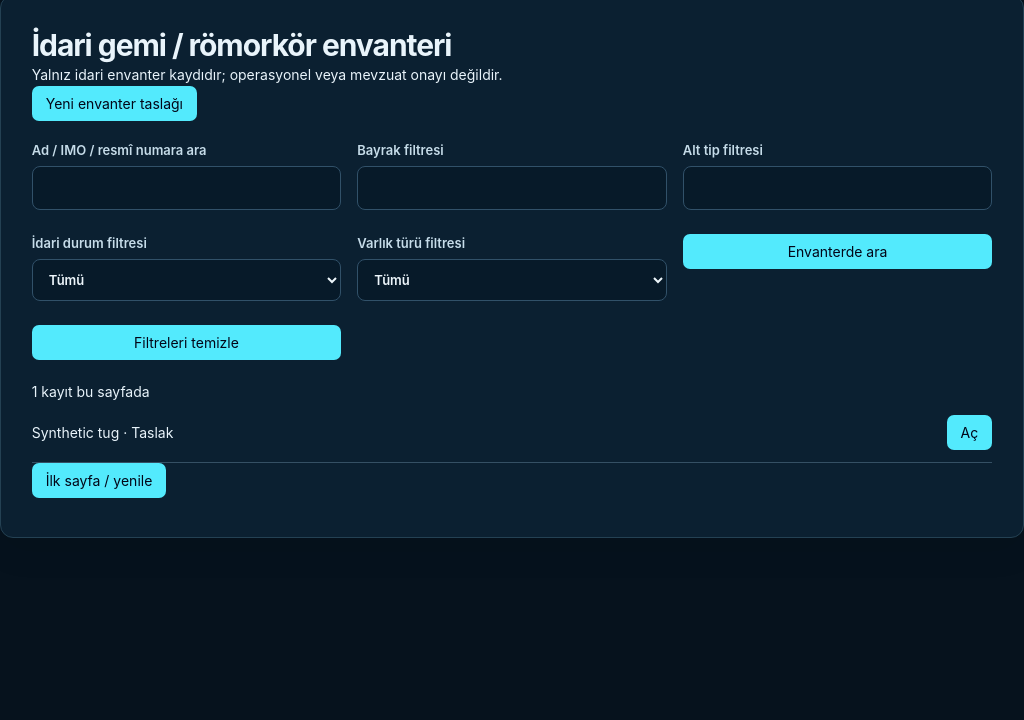
it: administrative inventory UI › retains uncertain operation with identical key/body and never automatically retries
Click the button "Aç" at (969, 433), box [947,415,992,450]
(page scrolled)
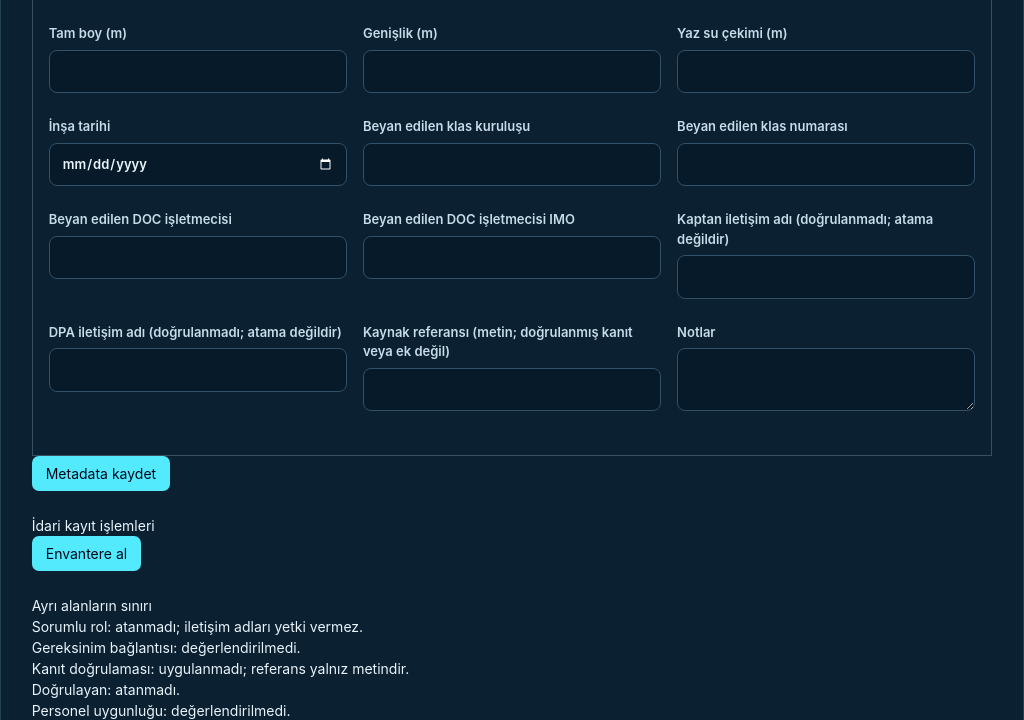
Type "Unsaved" into the text box labelled "Notlar" at (826, 380), box [677,348,975,411]
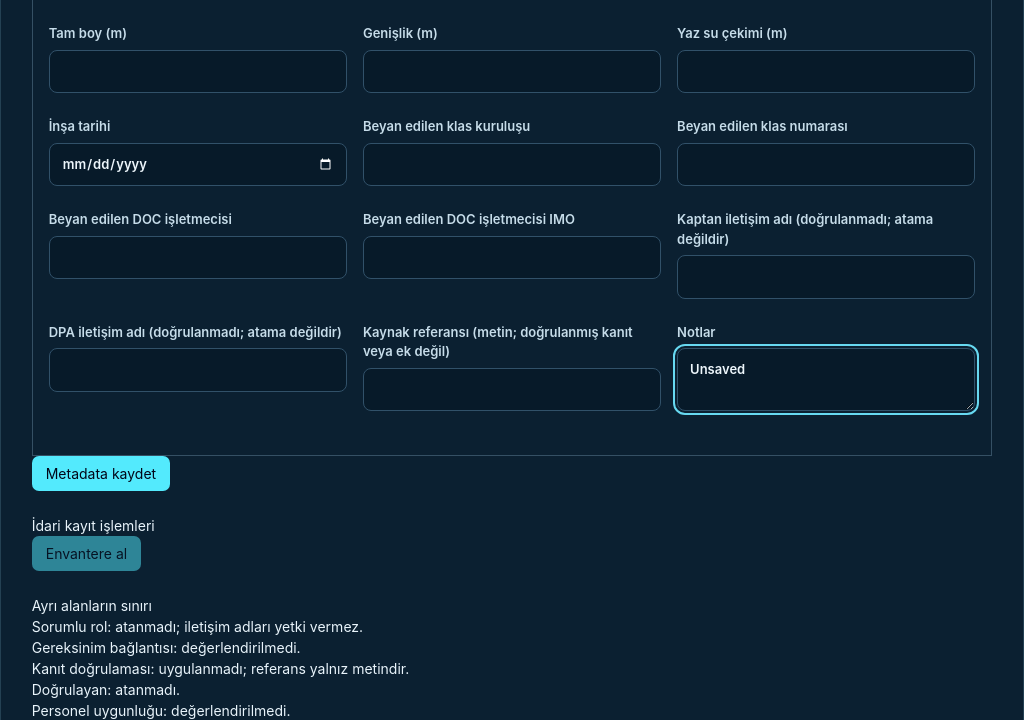
Click the button "Metadata kaydet" at (101, 474), box [32,456,170,491]
(page scrolled)
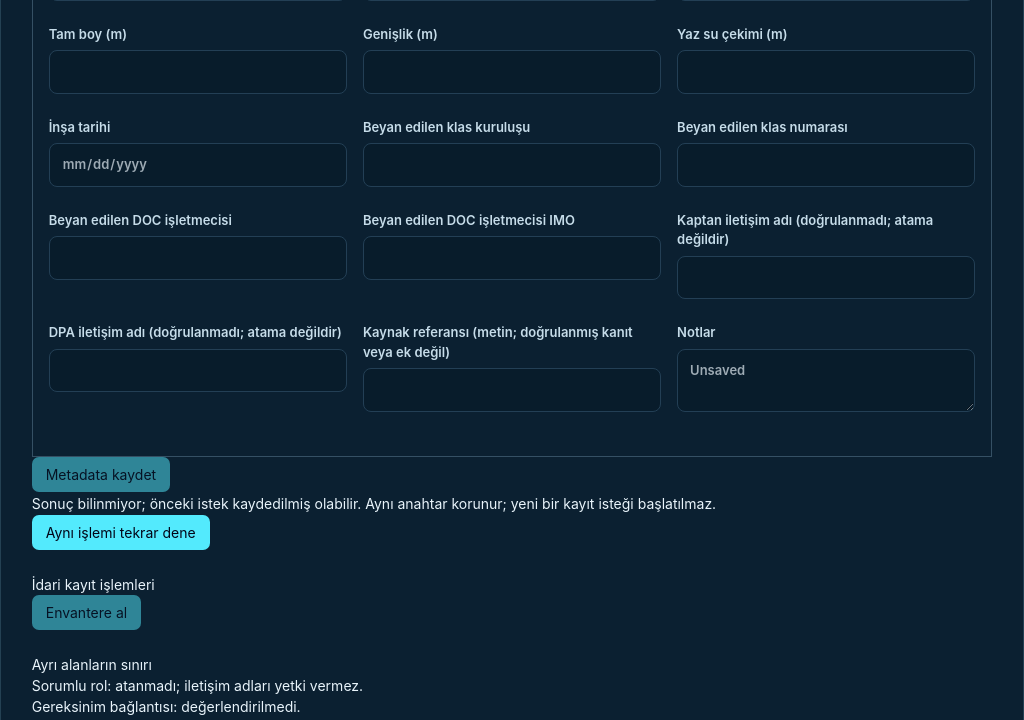
Check: the text "Sunucudaki güncel kayıt doğrulandı." is not shown
Check: the text box labelled "Notlar" is disabled, box [677,349,975,412]
Check: the button "Aynı işlemi tekrar dene" is shown
Click the button "Aynı işlemi tekrar dene" at (121, 533), box [32,515,210,550]
(page scrolled)
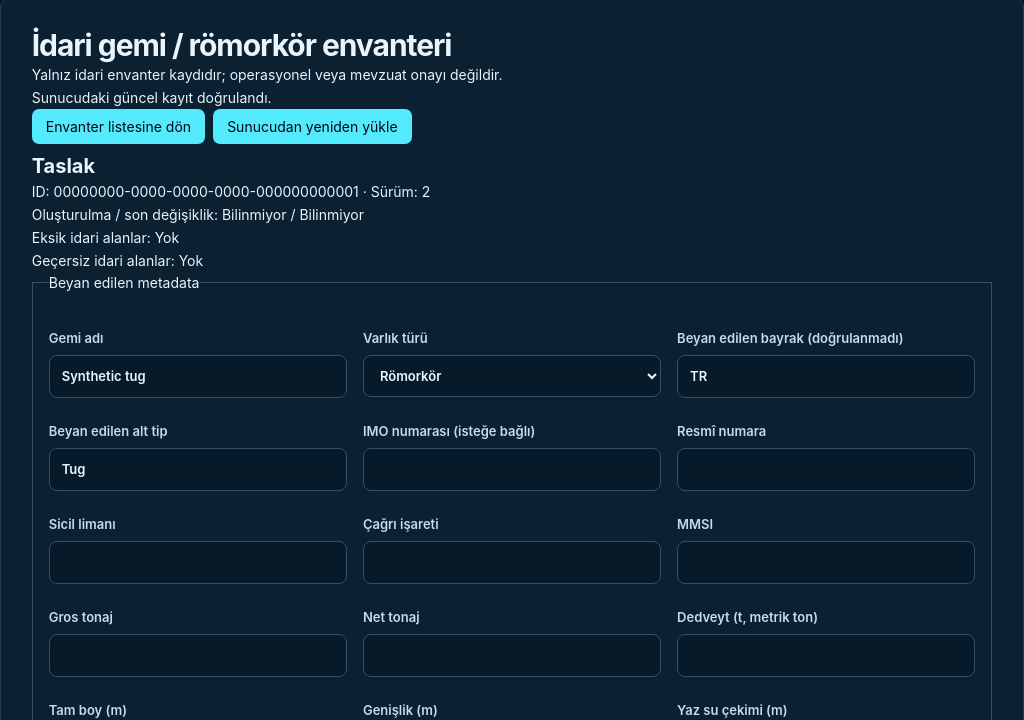
Check: the text "Sunucudaki güncel kayıt doğrulandı." is shown, box [32,89,272,106]
